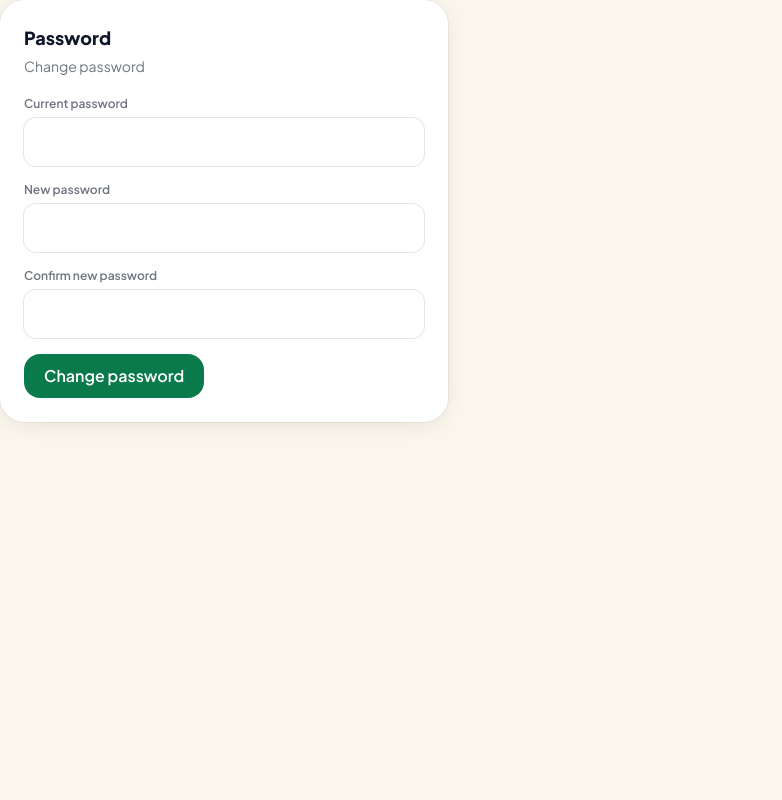
it: AccountSecurity › changes the password via PATCH /me/change-password
Type "oldpass1" into the password field labelled "Current password" at (224,142), box [24,118,424,166]
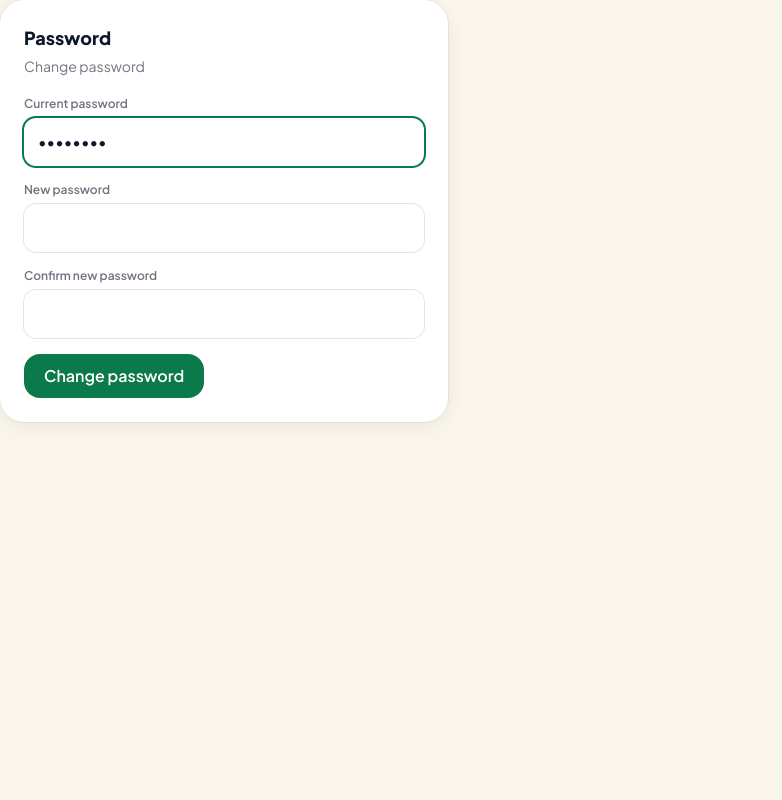
Type "newpass123" into the password field labelled "New password" at (224,228), box [24,204,424,252]
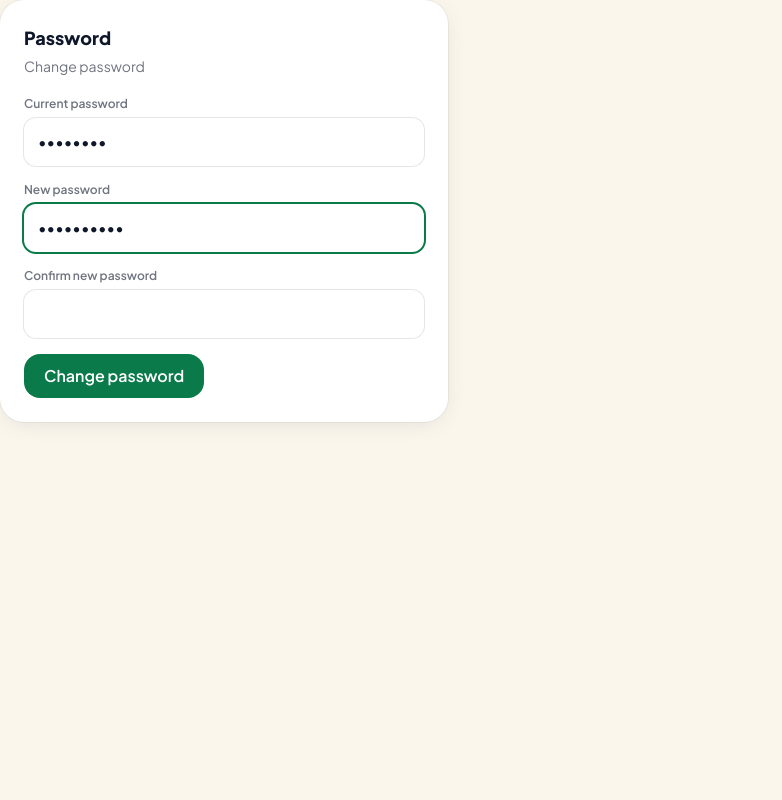
Type "newpass123" into the password field labelled "Confirm new password" at (224,314), box [24,290,424,338]
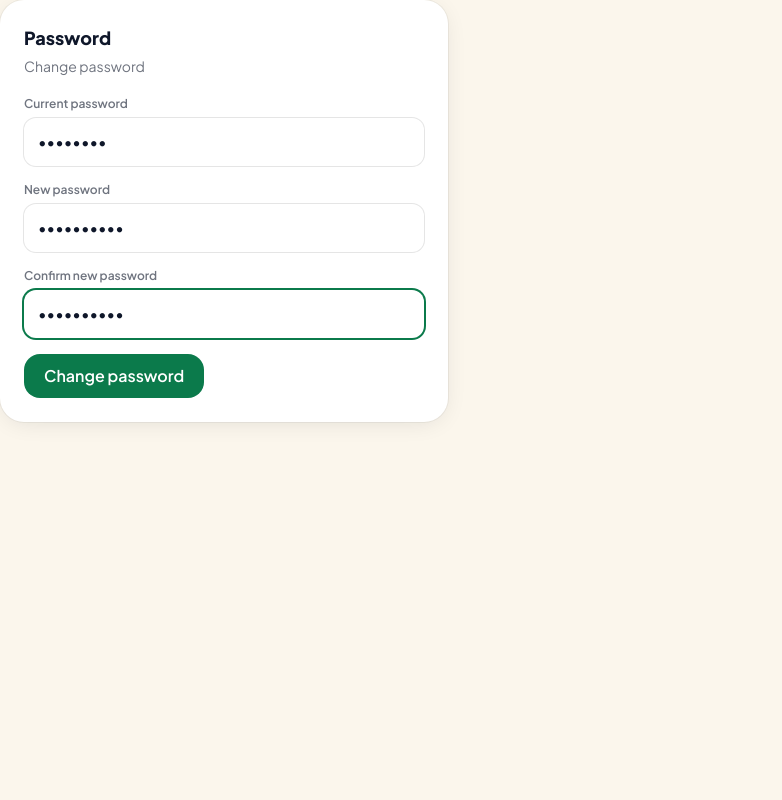
Click the button "Change password" at (114,376), box [24,354,204,398]
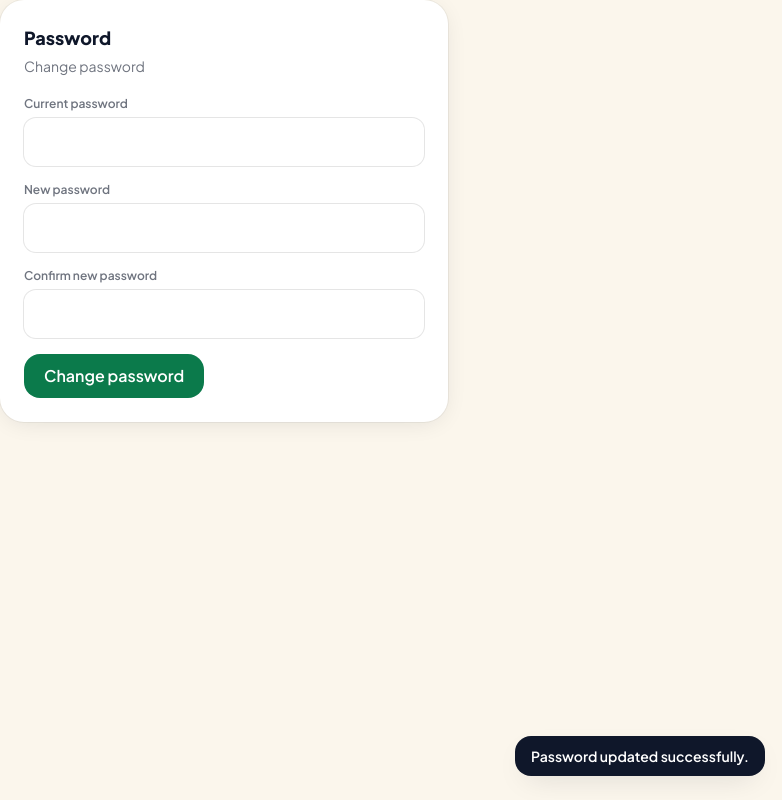
expect the text "Password updated successfully." is shown: met, box [515,736,765,776]
